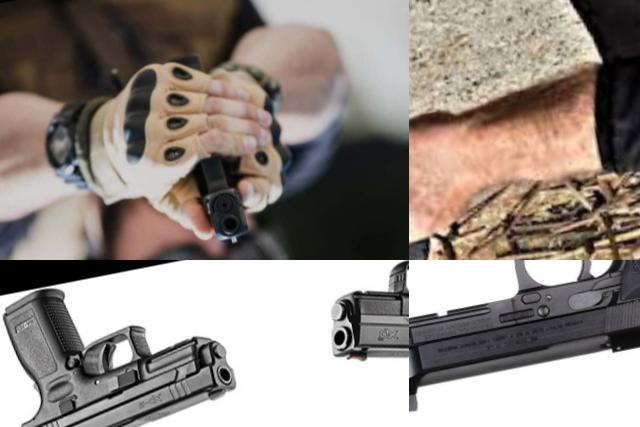handgun: (0, 260, 248, 427), (409, 260, 640, 427), (152, 44, 256, 252), (409, 107, 538, 260), (306, 260, 409, 401)
